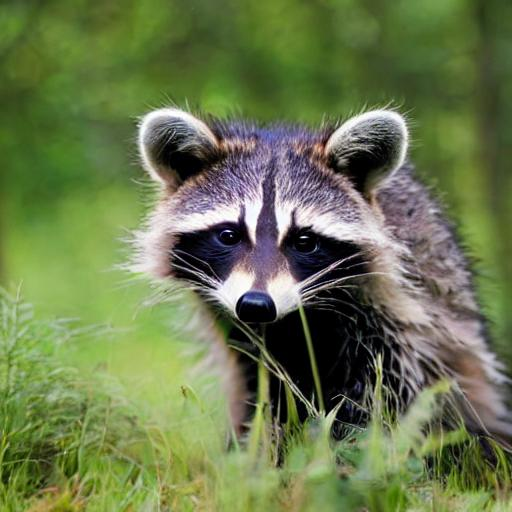raccoon: (111, 84, 512, 475)
